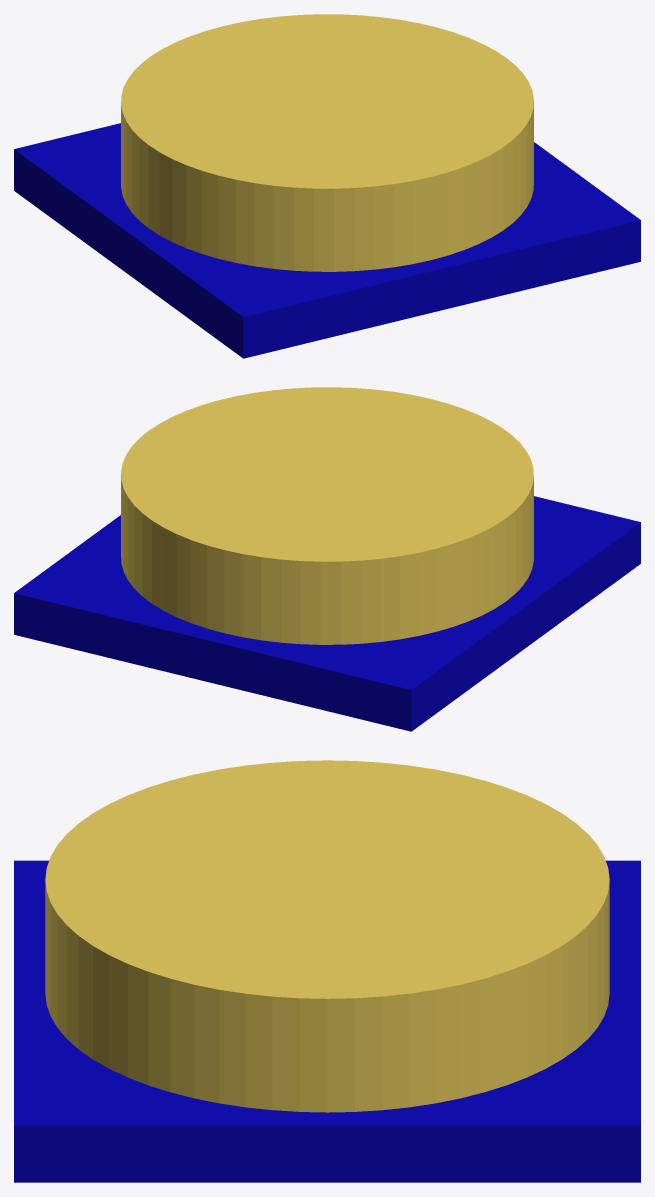
Rendered from Face_Circ_Ext.glb.
The picture shows the model from 3 angles, top to bottom: view 1: azimuth 30°, elevation 25°; view 2: azimuth 150°, elevation 25°; view 3: azimuth 270°, elevation 25°; orthographic projection. The views are drawn at different scales.
Visible parts, largest first — view 1: Face_Circ_Ext; view 2: Face_Circ_Ext; view 3: Face_Circ_Ext.
Part boxes in pixels (x1,y1,x2,y2): Face_Circ_Ext: [14, 14, 640, 358]; Face_Circ_Ext: [14, 387, 640, 731]; Face_Circ_Ext: [14, 760, 640, 1182].
Size of the model in its own units: 2 by 0.6 by 2.
